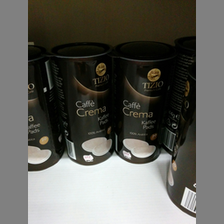coffee: (51, 42, 115, 166), (114, 41, 176, 163)
